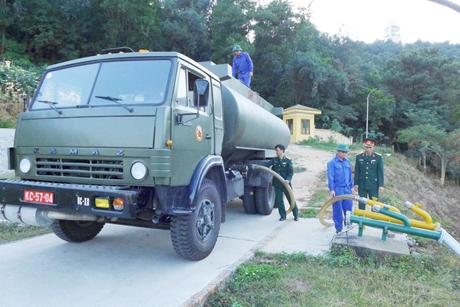plate: (21, 187, 55, 205)
